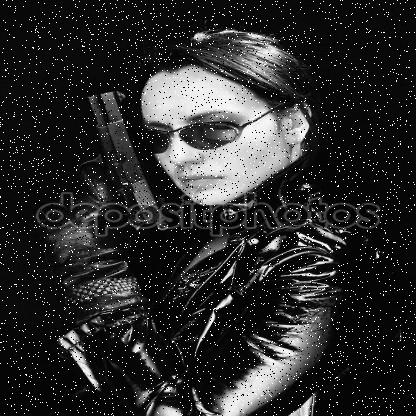pistol: (56, 91, 180, 230)
